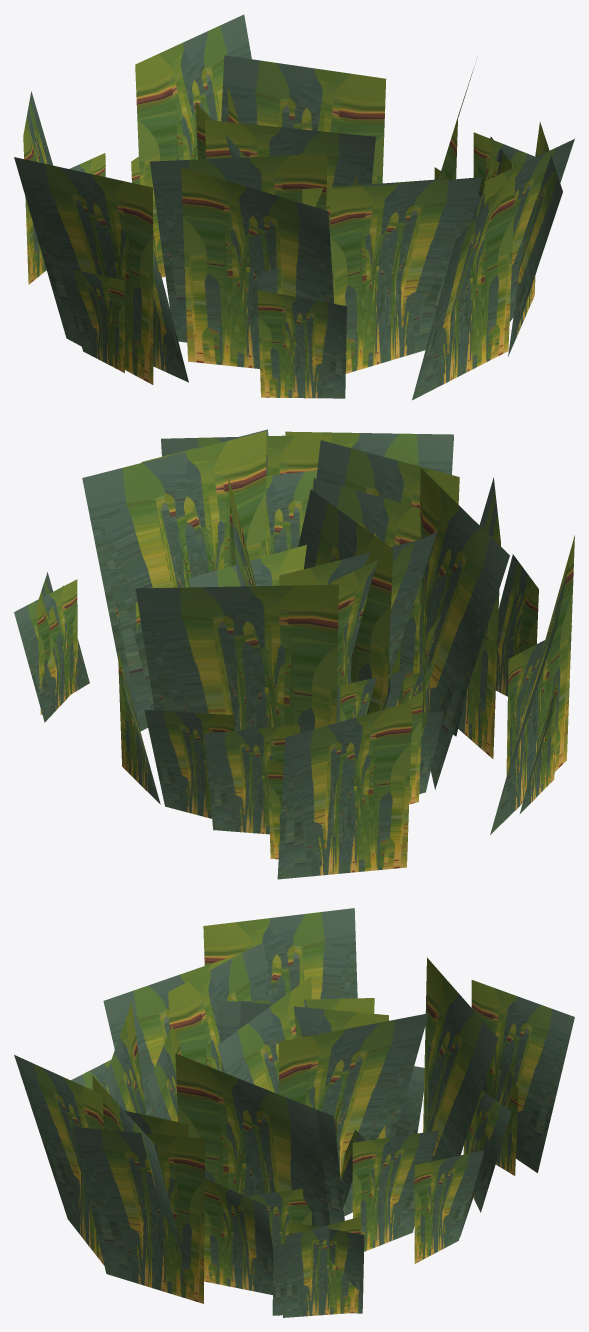
File: grass.dae
3 views of the same model, one above another, from view 1: azimuth 30°, elevation 25°; view 2: azimuth 150°, elevation 25°; view 3: azimuth 270°, elevation 25° (orthographic). The views are drawn at different scales.
Visible parts, largest first — view 1: Grass_B_Low_Dense; view 2: Grass_B_Low_Dense; view 3: Grass_B_Low_Dense.
Boxes of the visible parts, box(x1,y1,x2,y2) form: Grass_B_Low_Dense: box(14, 14, 574, 400); Grass_B_Low_Dense: box(14, 429, 574, 879); Grass_B_Low_Dense: box(14, 908, 574, 1317).
Bounding box in the file's own units: 0.5698 × 0.5773 × 0.2489.
1 material, 1 textured.
